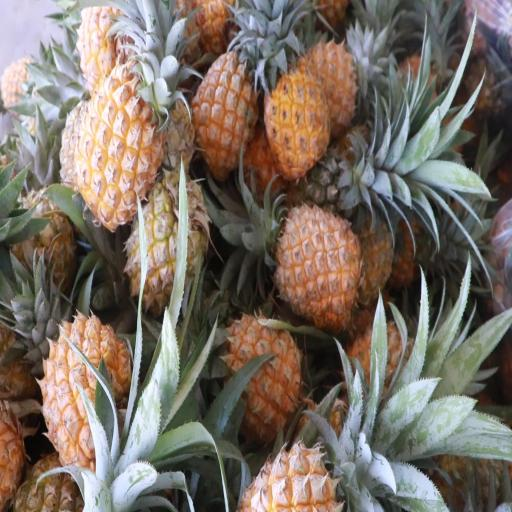------------------------------: (131, 184, 208, 314)
Pineapple - v8 v1: (73, 66, 159, 224), (47, 311, 132, 466), (276, 205, 360, 320), (224, 315, 306, 426), (190, 44, 259, 167), (235, 432, 340, 512), (267, 70, 332, 178)
